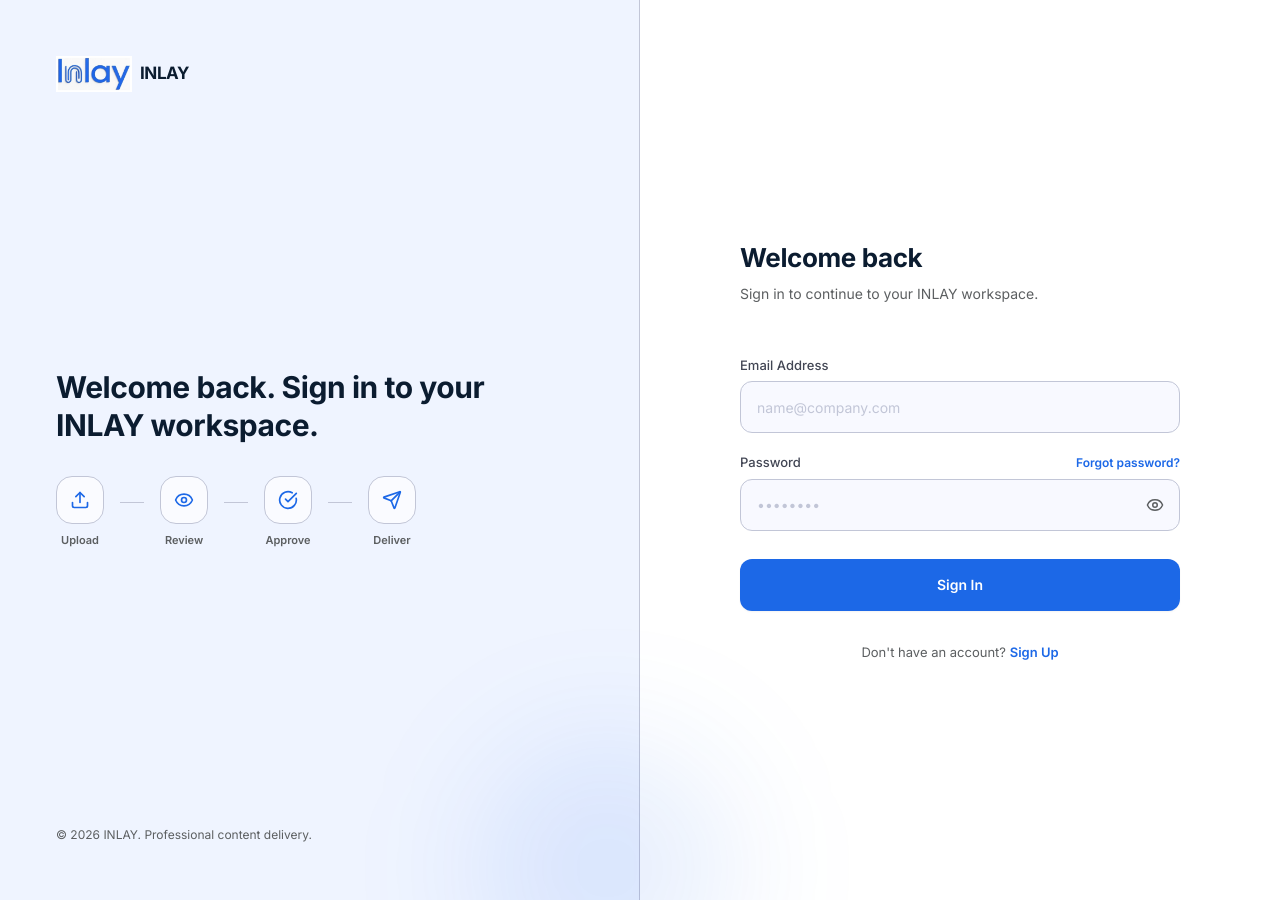
Test: LoginForm › shows the generic invalid-login message returned by the action, without hinting at the cause
Type "nobody@example.com" into the field labelled "Email Address" at [960, 407], box x1=740 y1=381 x2=1180 y2=433
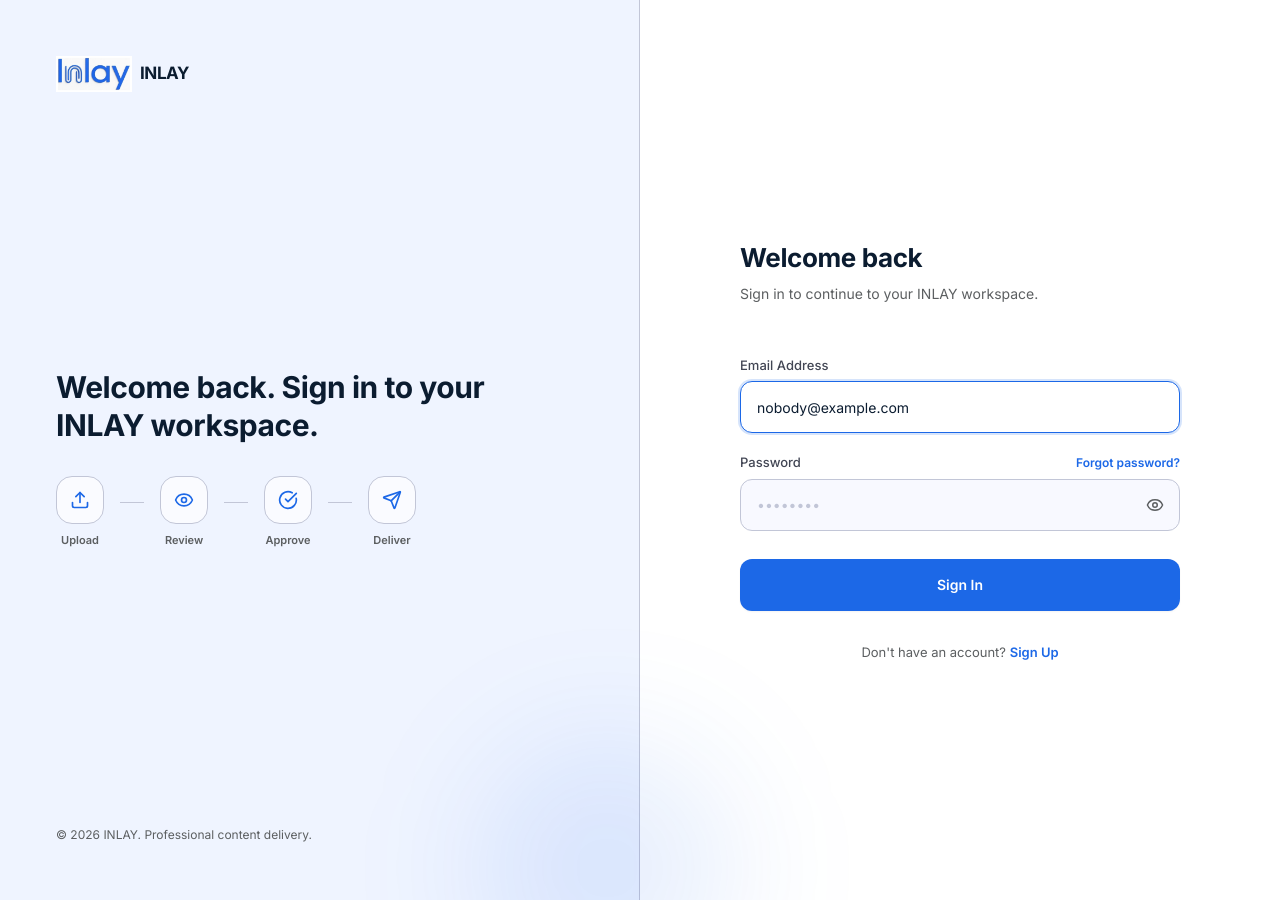
Type "wrong-password" into the password field labelled "Password" at [960, 505], box x1=740 y1=479 x2=1180 y2=531
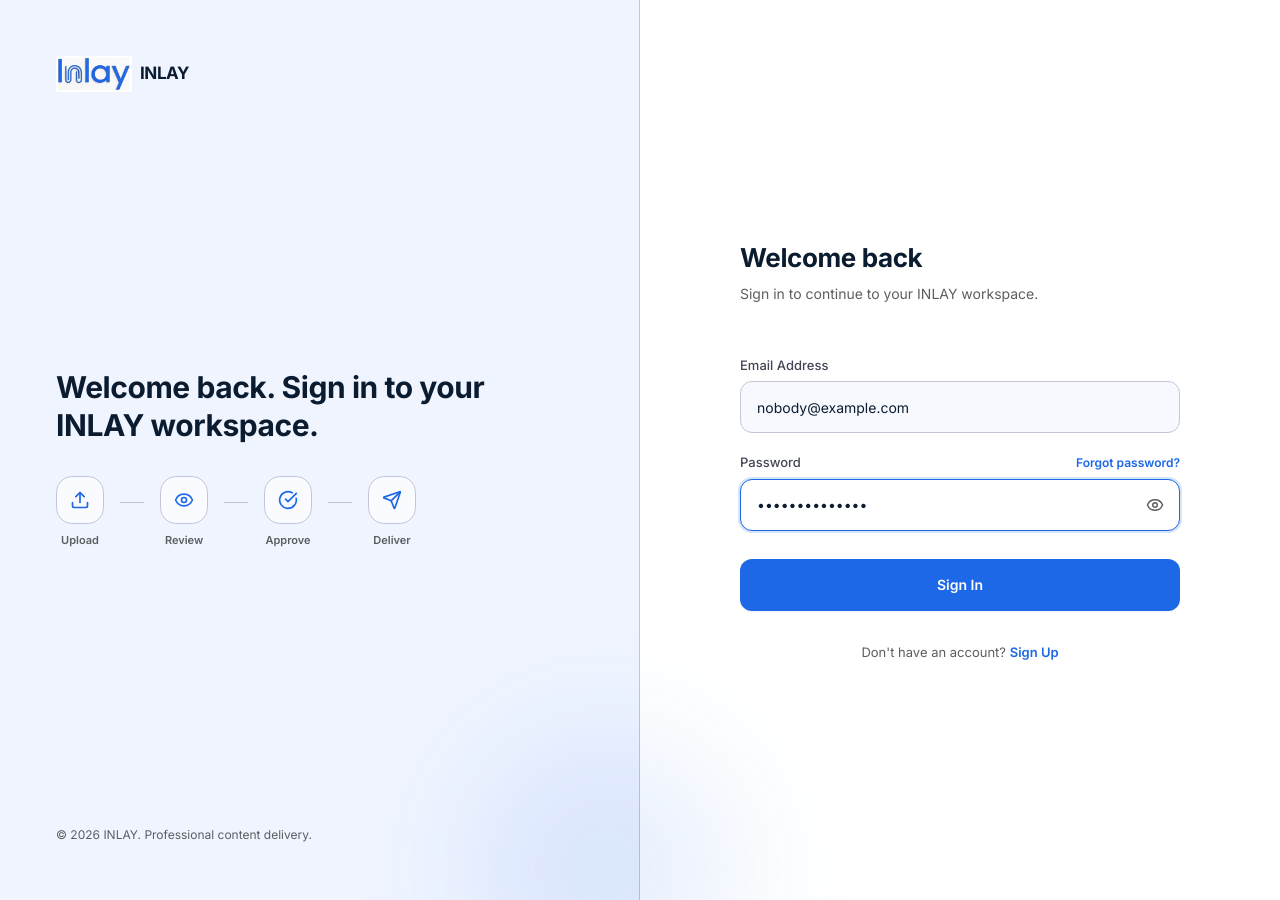
Click the button "Sign In" at [960, 585], box x1=740 y1=559 x2=1180 y2=611
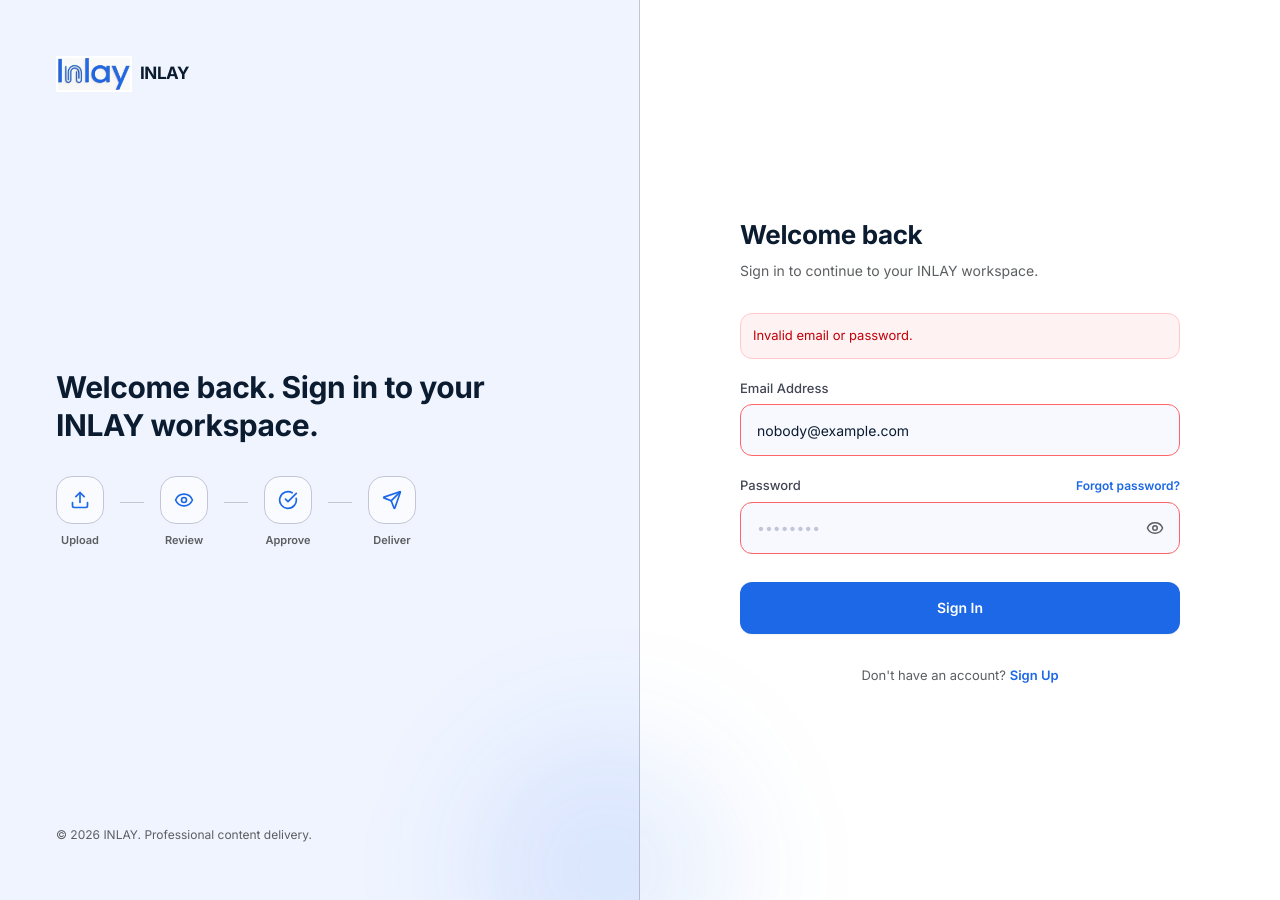
Check: the message reads "Invalid email or password.", box x1=753 y1=327 x2=913 y2=343
